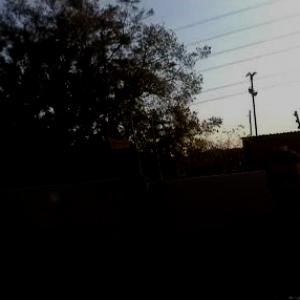follow: (238, 141, 299, 299)
